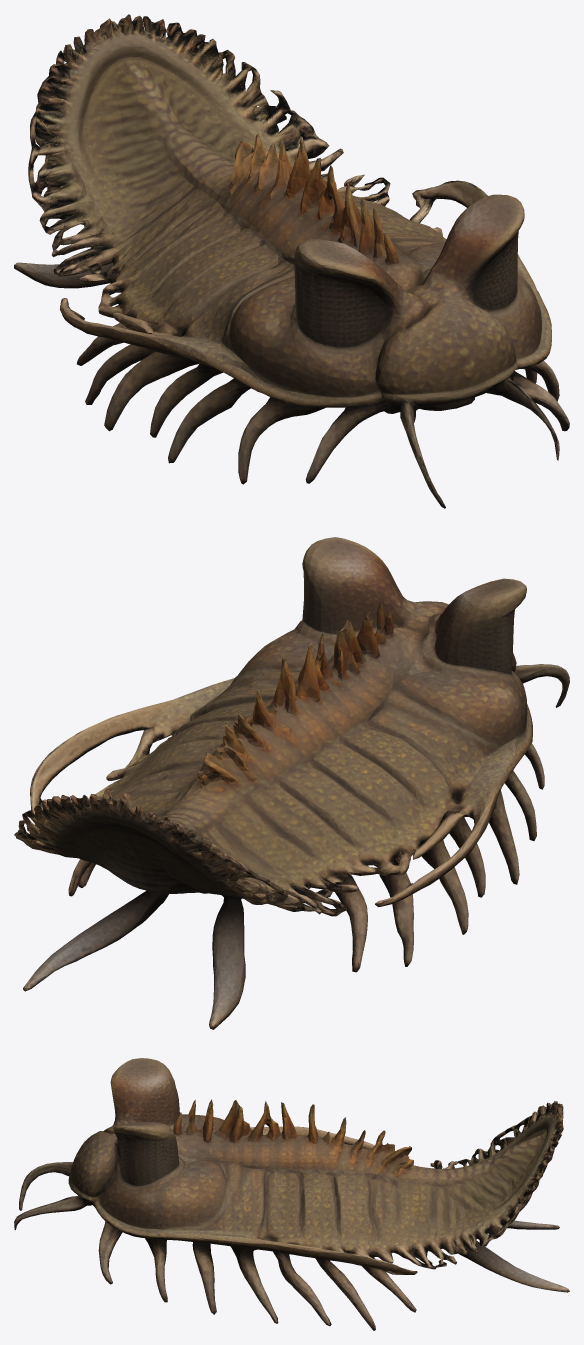
The picture shows the model from 3 angles, top to bottom: view 1: azimuth 30°, elevation 25°; view 2: azimuth 150°, elevation 25°; view 3: azimuth 270°, elevation 25°; orthographic projection. The views are drawn at different scales.
Parts seen in each view (by area): view 1: world; view 2: world; view 3: world.
Part boxes in pixels (box(x1,y1,x2,y2)): world: box(14, 14, 569, 508); world: box(14, 537, 569, 1029); world: box(14, 1058, 569, 1330).
Size of the model in its own units: 0.5786 by 0.3505 by 0.9868.
Materials: 1 (1 with a texture image).
